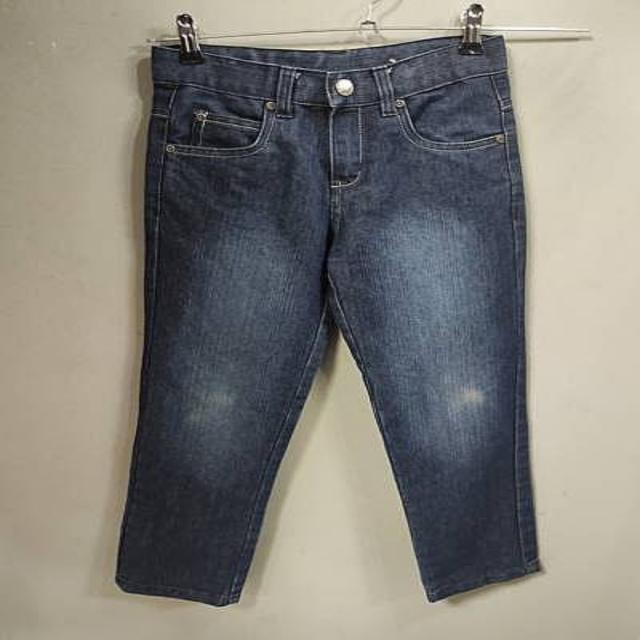TROUSER: (101, 34, 579, 617)
